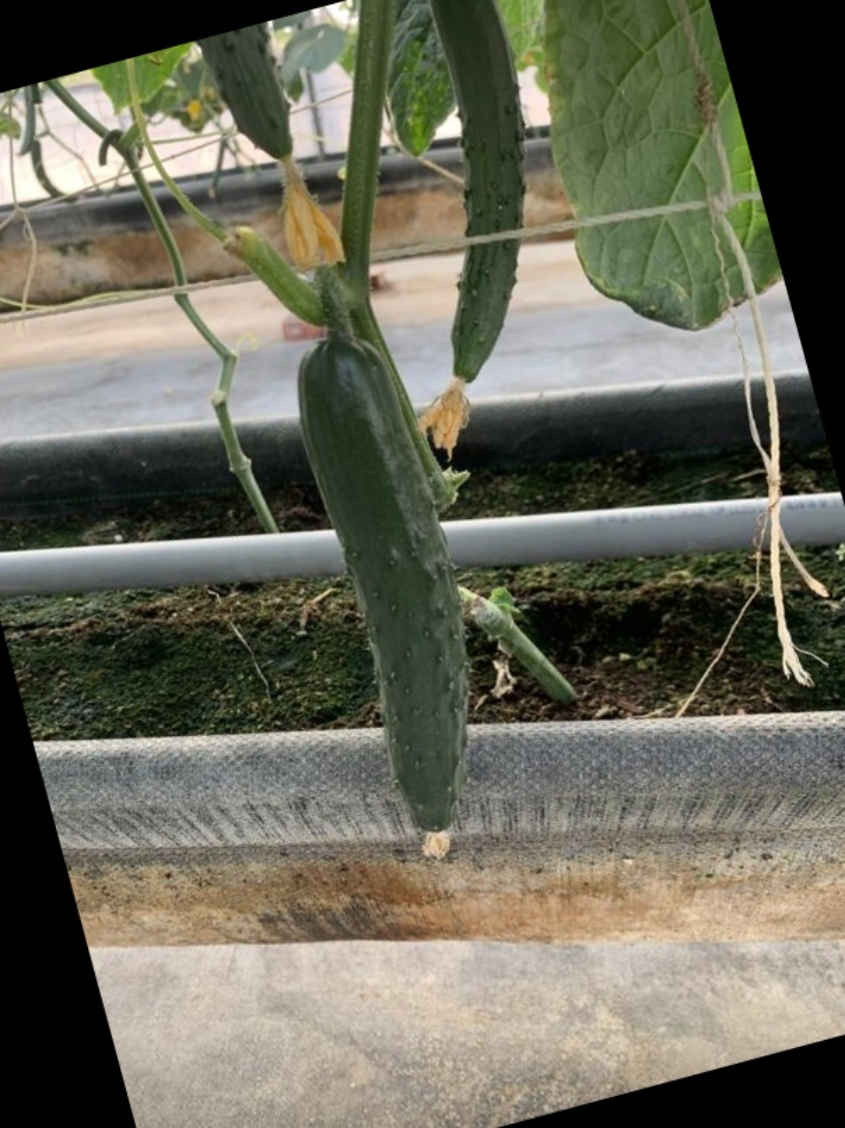mature: (291, 334, 468, 847)
